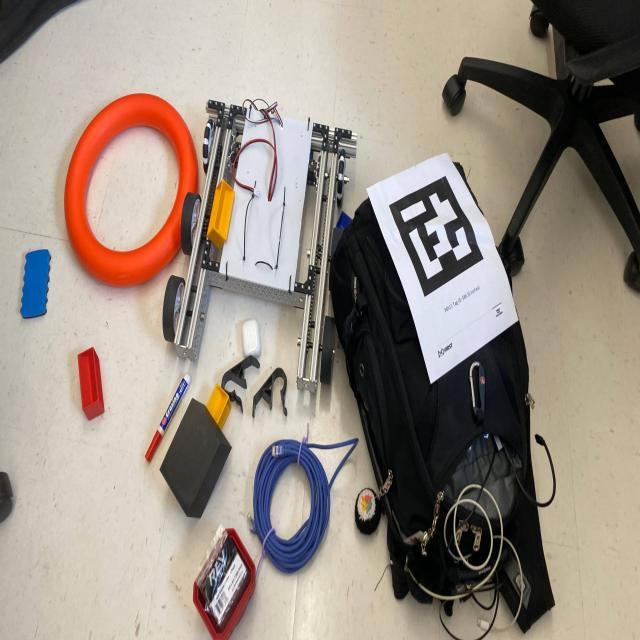blue-specimen: (336, 211, 352, 230)
red-specimen: (78, 348, 104, 420)
yellow-specimen: (207, 179, 234, 247), (206, 384, 231, 430)
